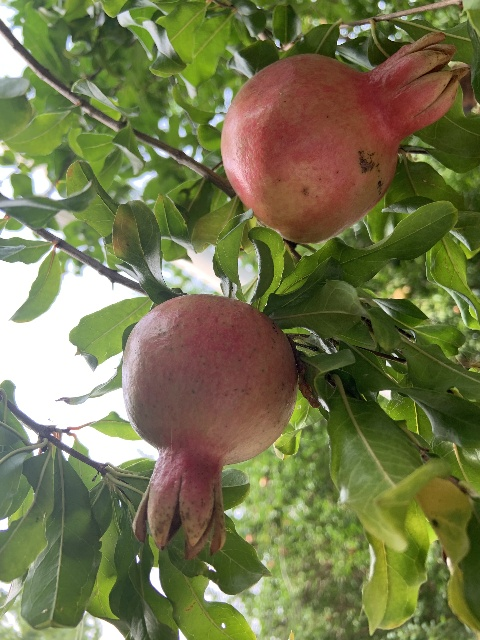ripe: (221, 30, 467, 244), (121, 294, 297, 558)
